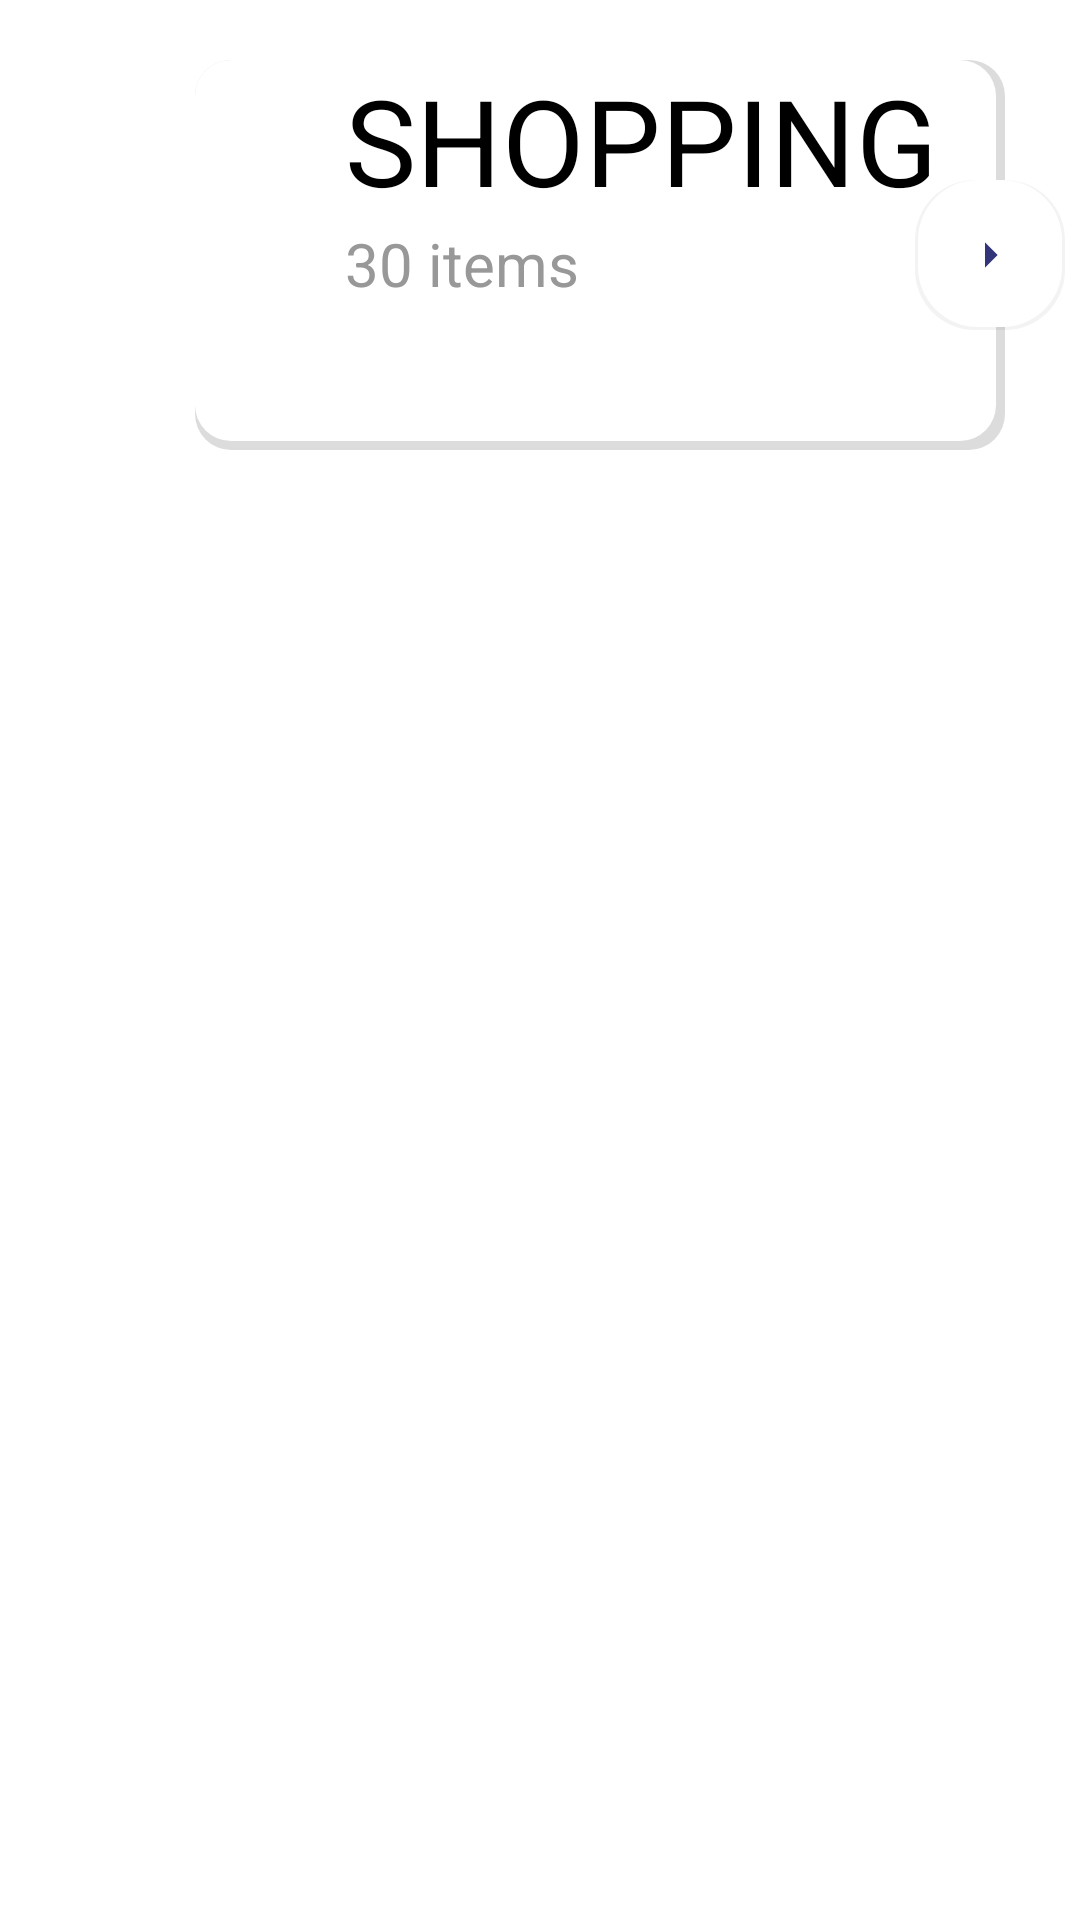

Locate icon controls on the screen. Image size 1080px×1920px, boxes as (left=x1, top=y1, right=x2, bottom=y2).
right: (left=985, top=242, right=998, bottom=268)
